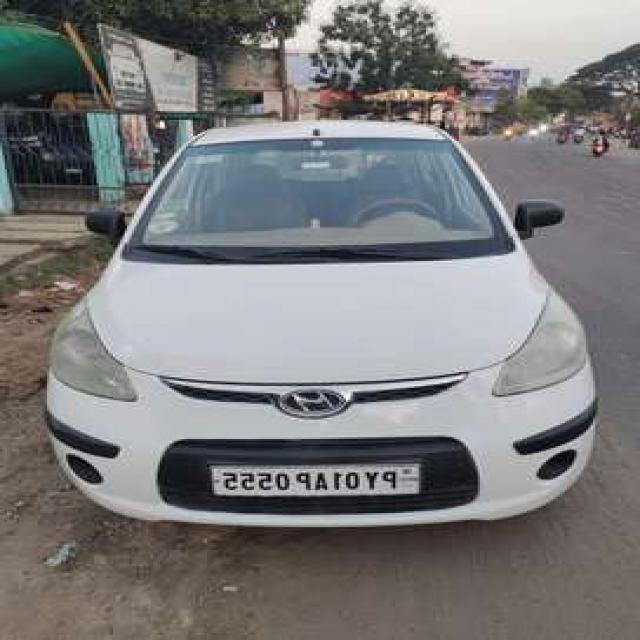license_plate: (204, 455, 428, 510)
